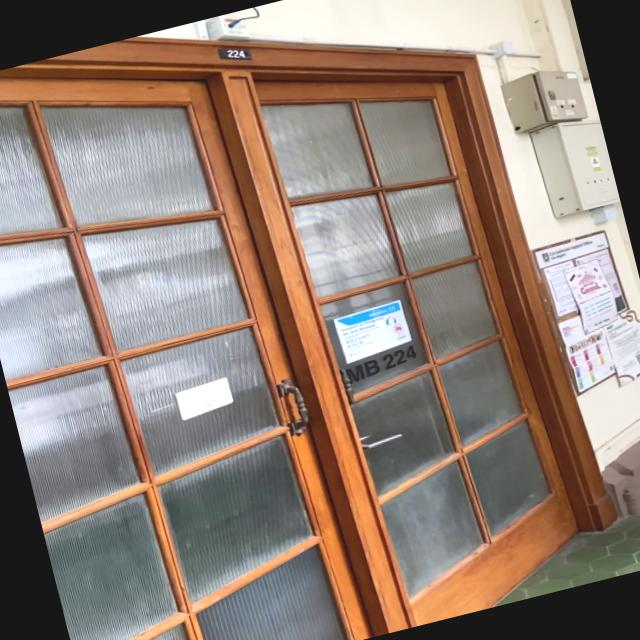room224: (215, 38, 252, 66)
room224Window: (342, 341, 423, 386)
